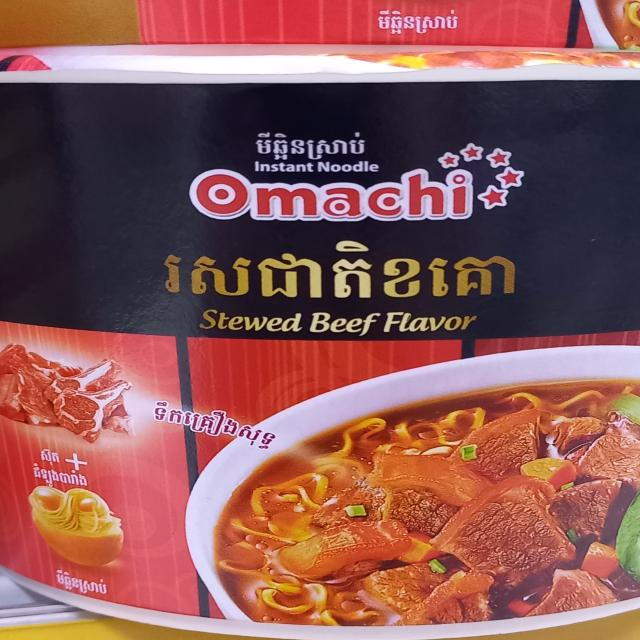Yolov11_80vkh: (145, 223, 541, 304), (146, 383, 290, 453), (250, 125, 381, 159), (368, 1, 467, 39), (51, 566, 116, 600), (30, 460, 93, 490), (35, 444, 65, 467)
